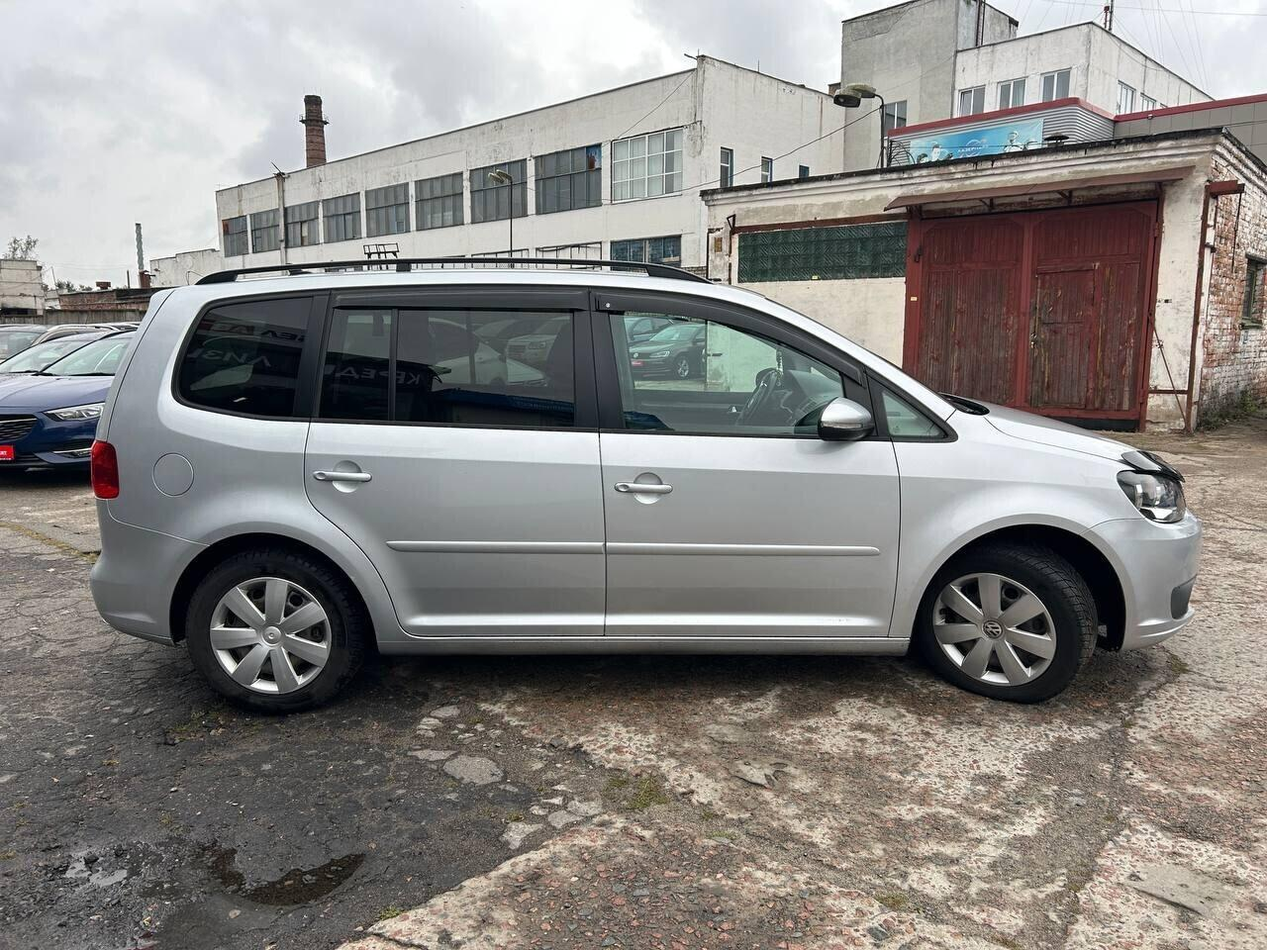Touran_2010-2015: (78, 262, 1201, 701)
